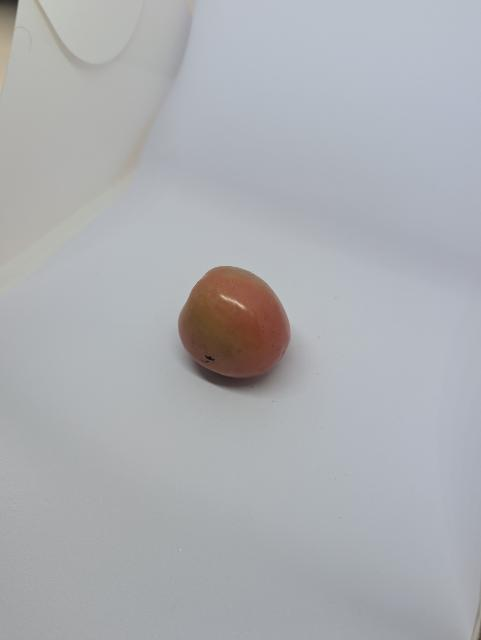turning: (171, 262, 296, 384)
